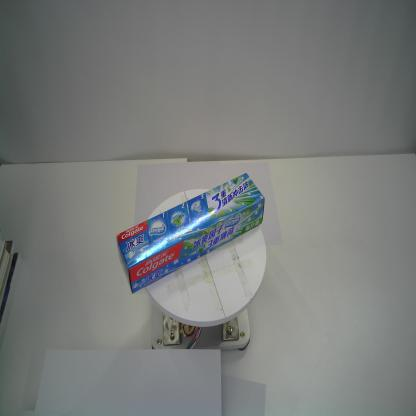Personal Hygiene: (113, 170, 266, 297)
